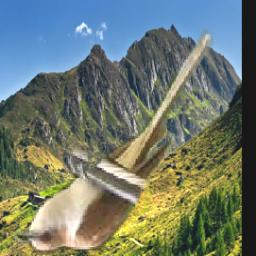Cuckoo: (13, 30, 213, 256)
